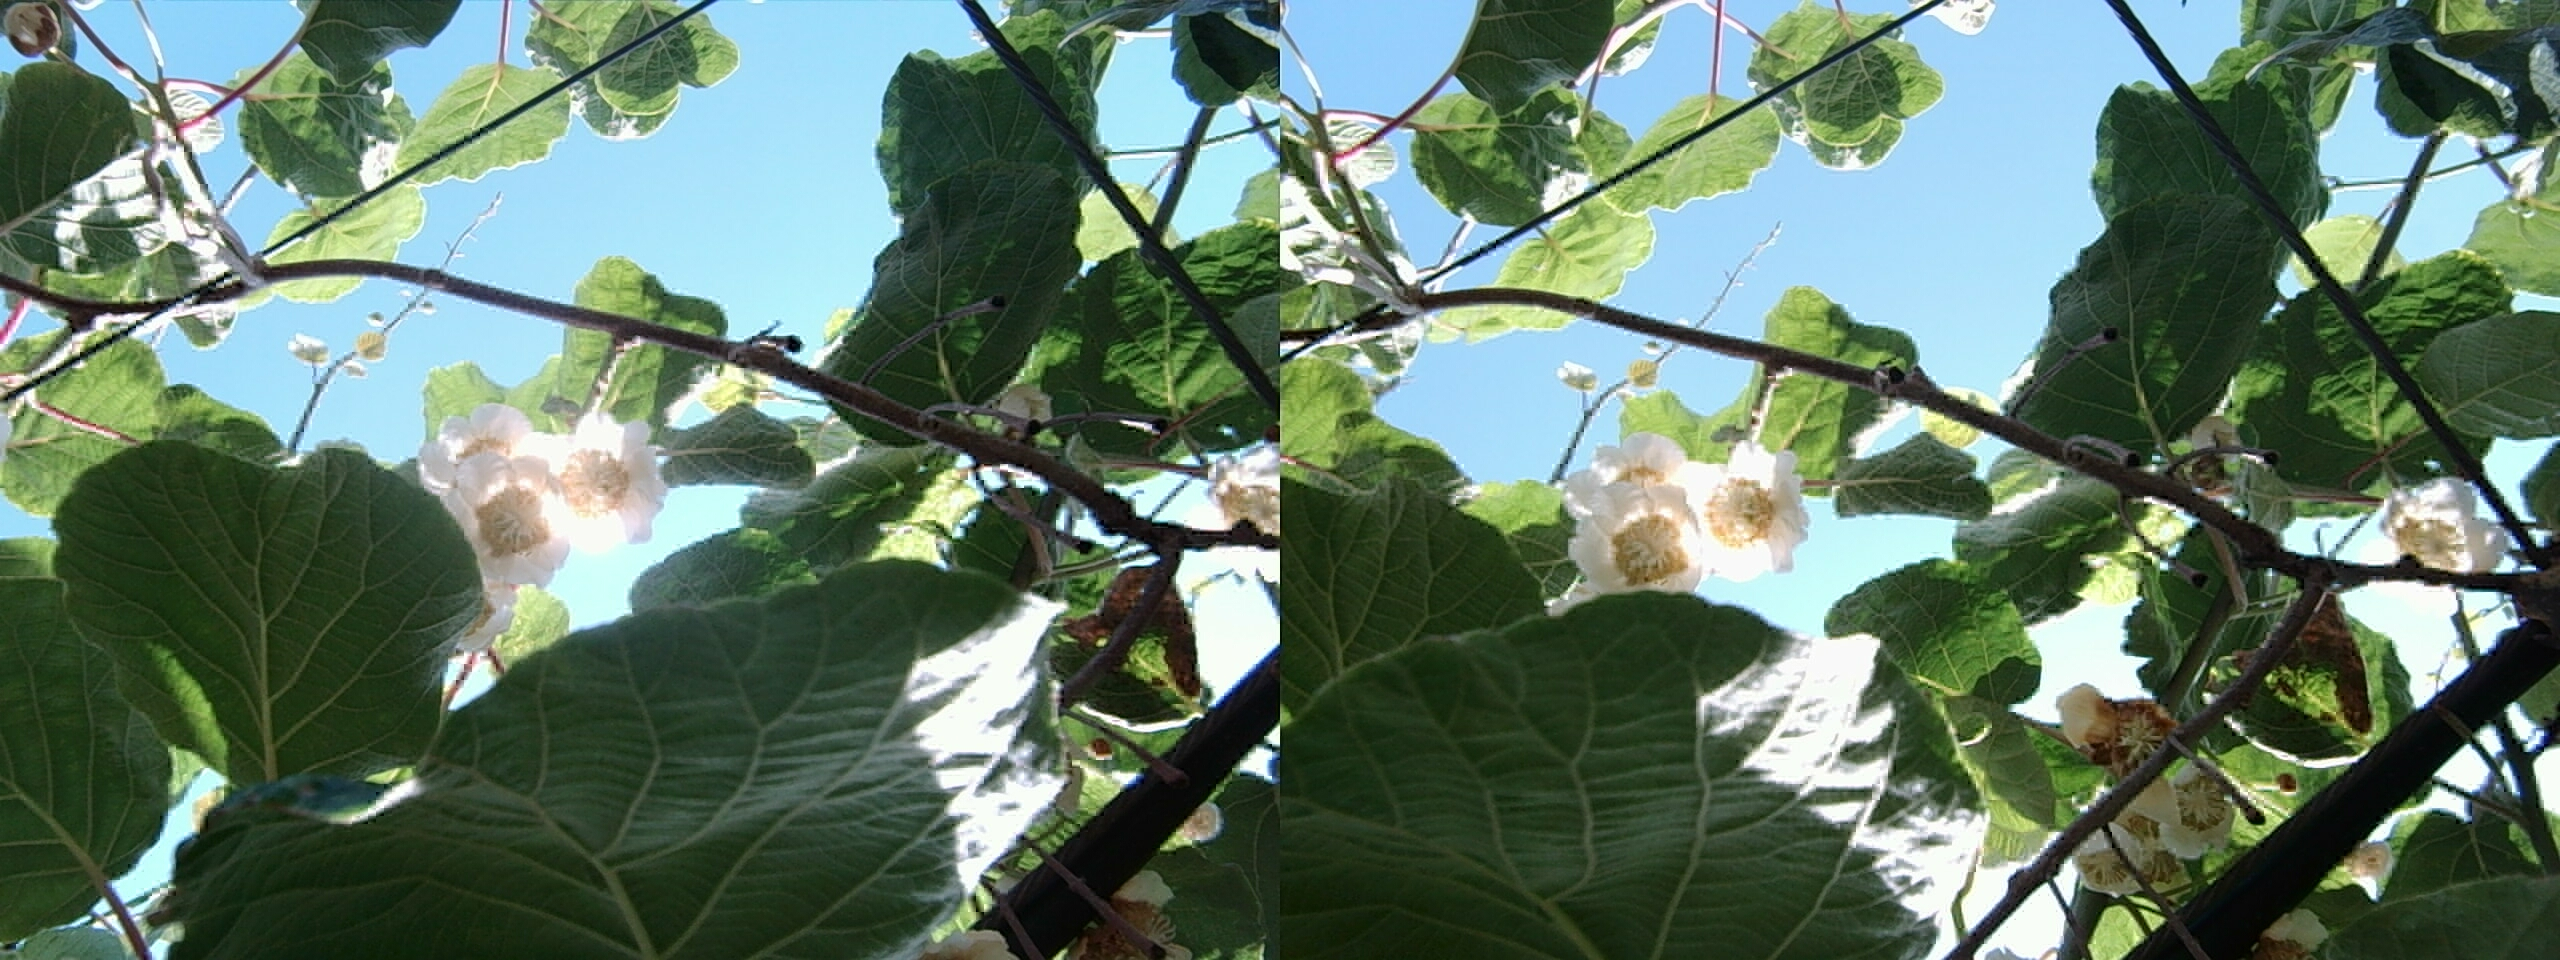flower: (421, 405, 655, 588), (1562, 447, 1713, 594), (1682, 441, 1807, 576)
